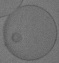small: (12, 33, 22, 43)
